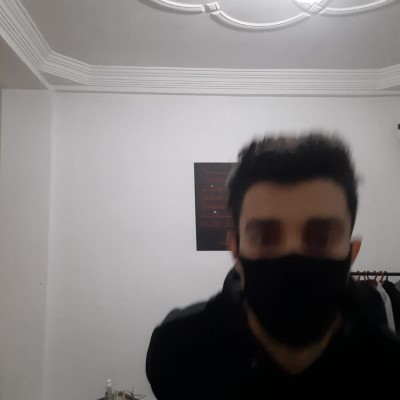NonMedicalMask: (241, 250, 346, 344)
